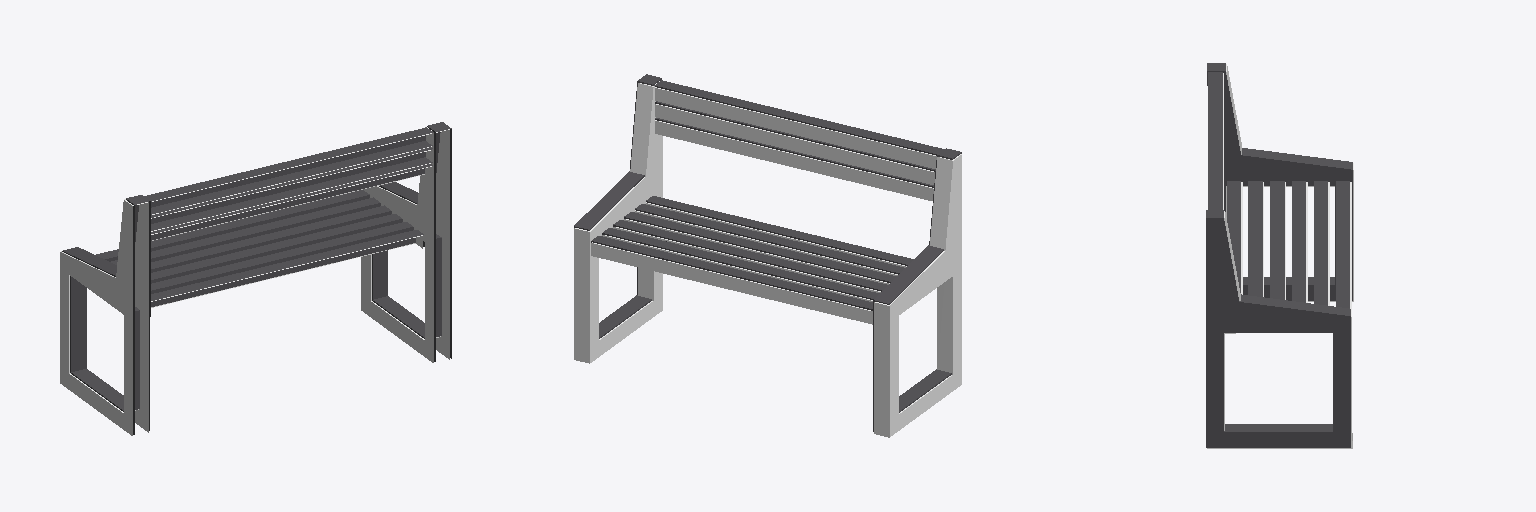
The model's file is Banc.obj.
3 views of the same model, side by side, from view 1: azimuth 30°, elevation 25°; view 2: azimuth 150°, elevation 25°; view 3: azimuth 270°, elevation 25° (orthographic).
Parts seen in each view (by area): view 1: Seat1, Seatframe7, Seatframe1, Seatframe5, Seat2; view 2: Seat1, Seat3, Seatframe7, Seatframe3, Seatframe1, Seat2; view 3: Seatframe1, Seat1, Seat2, Seatframe5.
Part boxes in pixels (x1,y1,x2,y2): Seat1: (96,127,433,306); Seatframe7: (60,127,433,435); Seatframe1: (62,122,451,434); Seatframe5: (135,130,449,432); Seat2: (151,133,431,301); Seat1: (591,80,943,310); Seat3: (591,88,936,324); Seatframe7: (590,86,961,436); Seatframe3: (574,83,952,437); Seatframe1: (574,74,961,431); Seat2: (592,87,935,310); Seatframe1: (1206,63,1352,447); Seat1: (1208,72,1349,307); Seat2: (1223,73,1351,308); Seatframe5: (1207,72,1353,448).
Bounding box in the file's own units: 5.04 × 3.52 × 2.05.